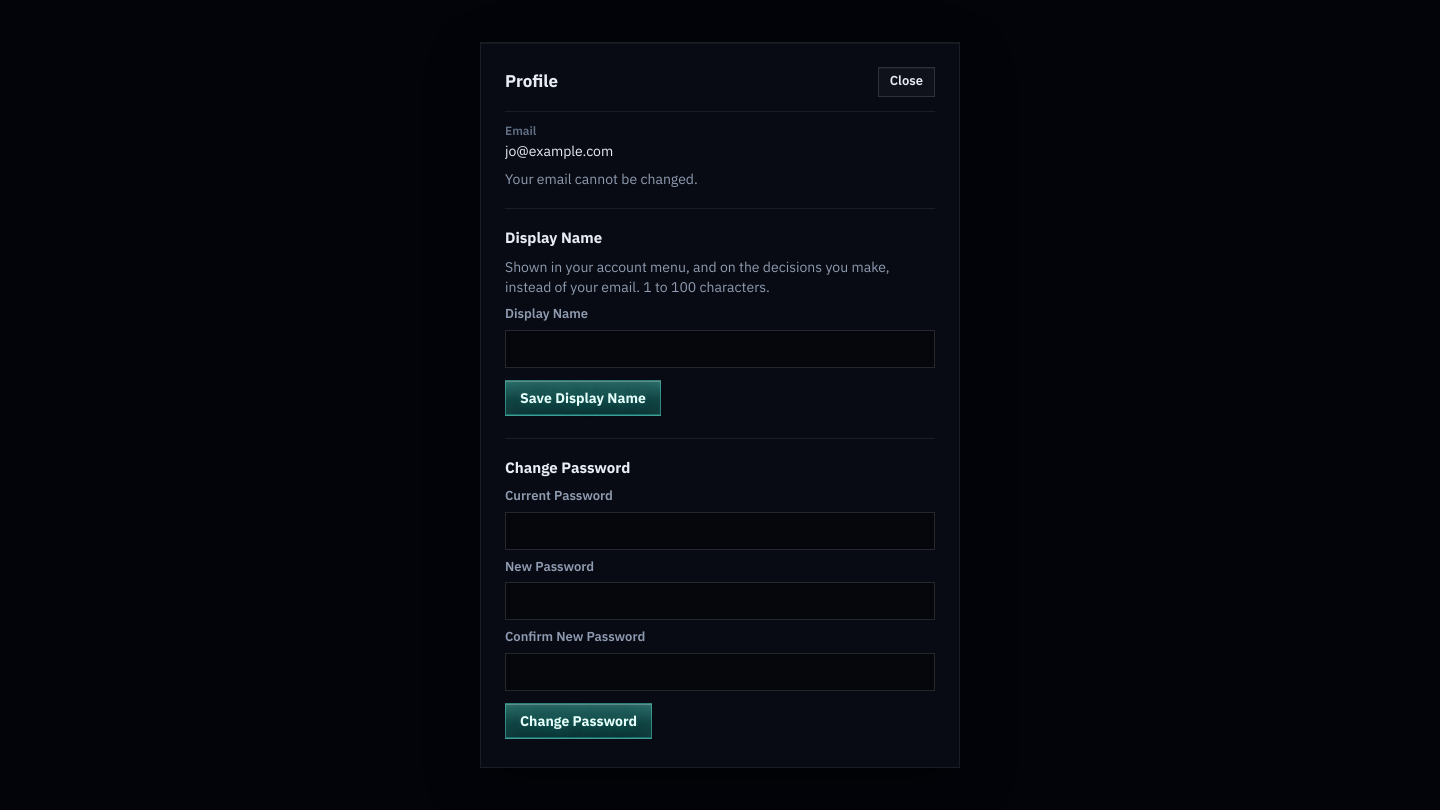
Profile window: the password › changes the password with the right current one, sends only the two passwords, and clears the fields
This screenshot has width=1440, height=810.
In the password field labelled "Current Password": (720, 530) top-left (505, 512), bottom-right (935, 550), type "old-password"
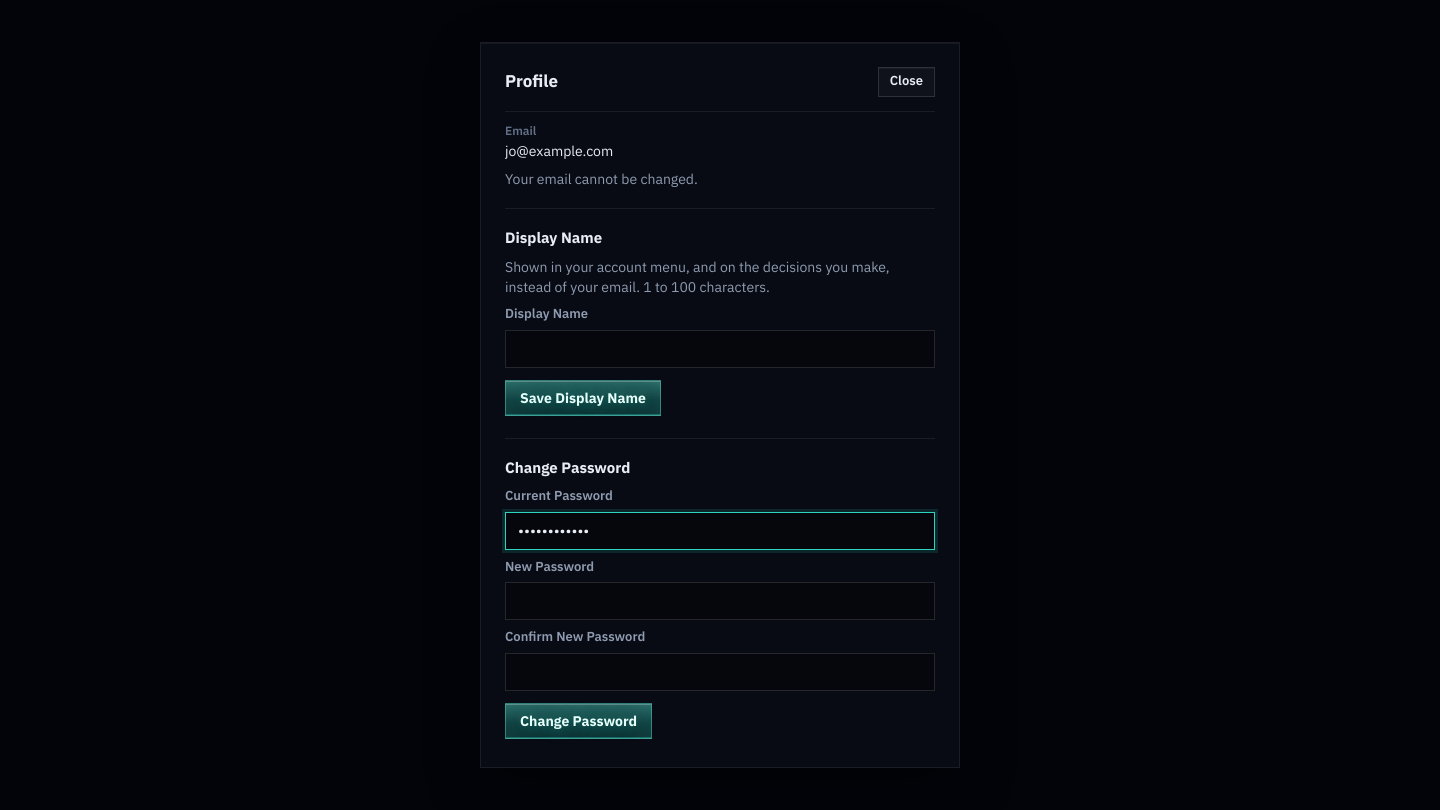
In the password field labelled "New Password": (720, 601) top-left (505, 582), bottom-right (935, 620), type "a-brand-new-password"
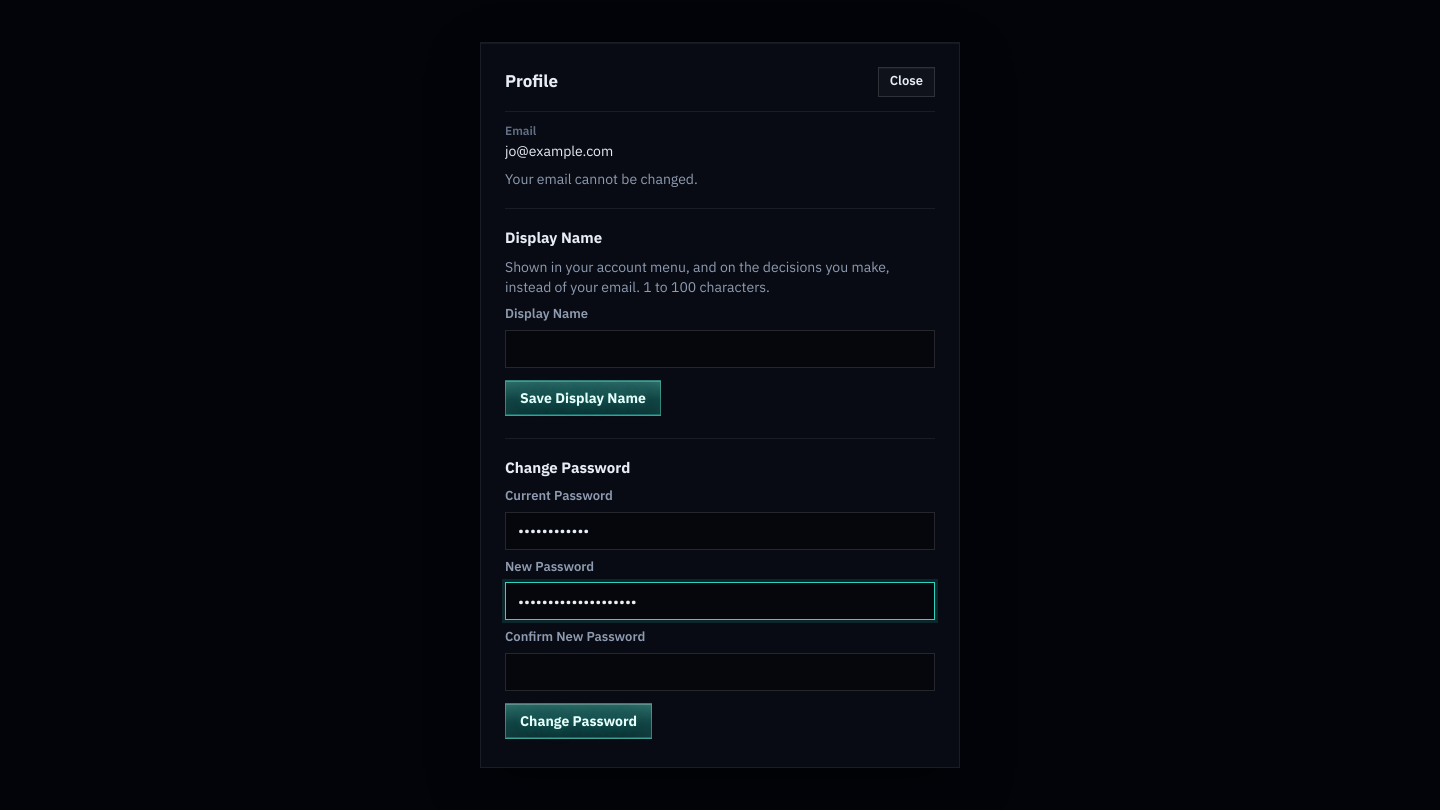
In the password field labelled "Confirm New Password": (720, 672) top-left (505, 653), bottom-right (935, 691), type "a-brand-new-password"
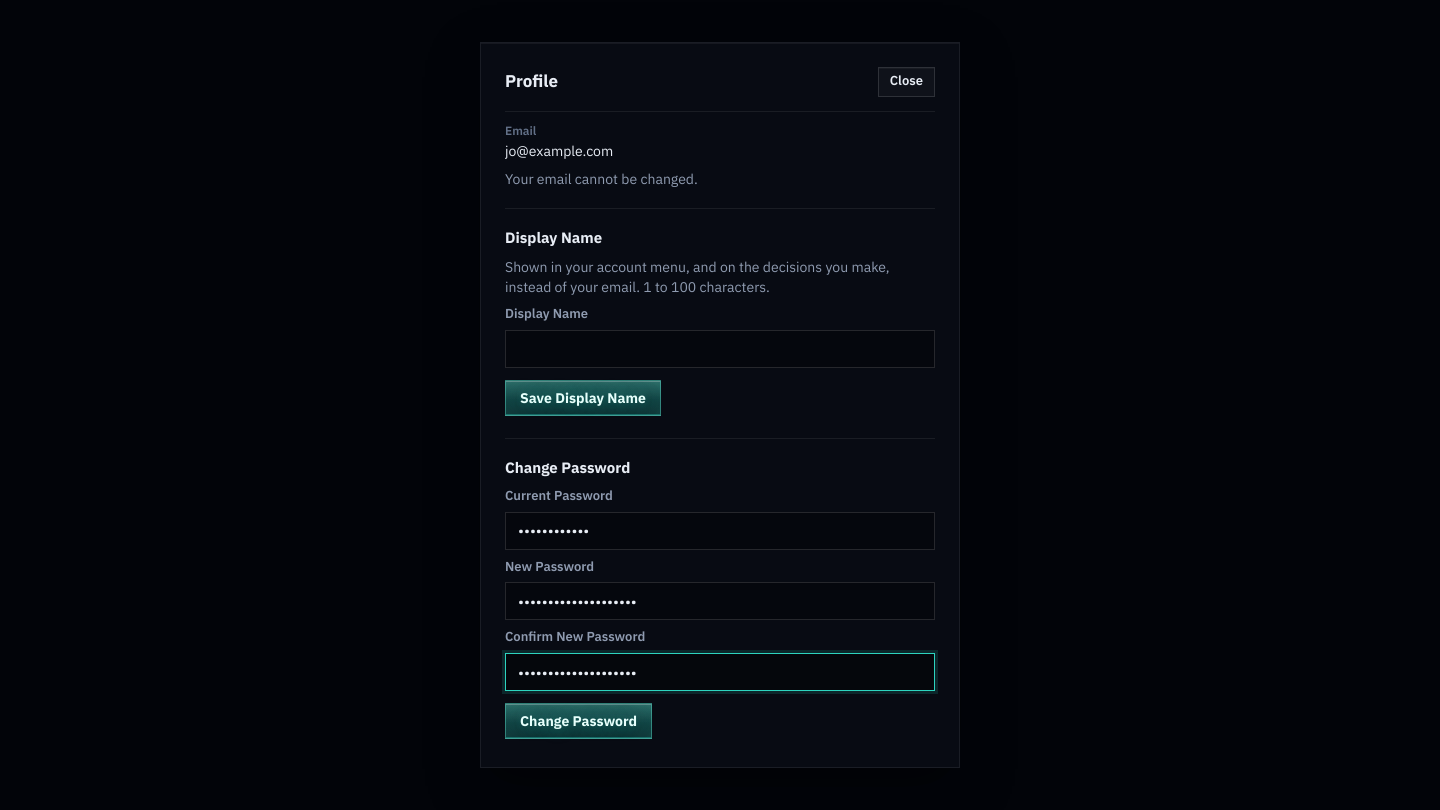
Click the button "Change Password": (578, 721) top-left (505, 703), bottom-right (652, 739)
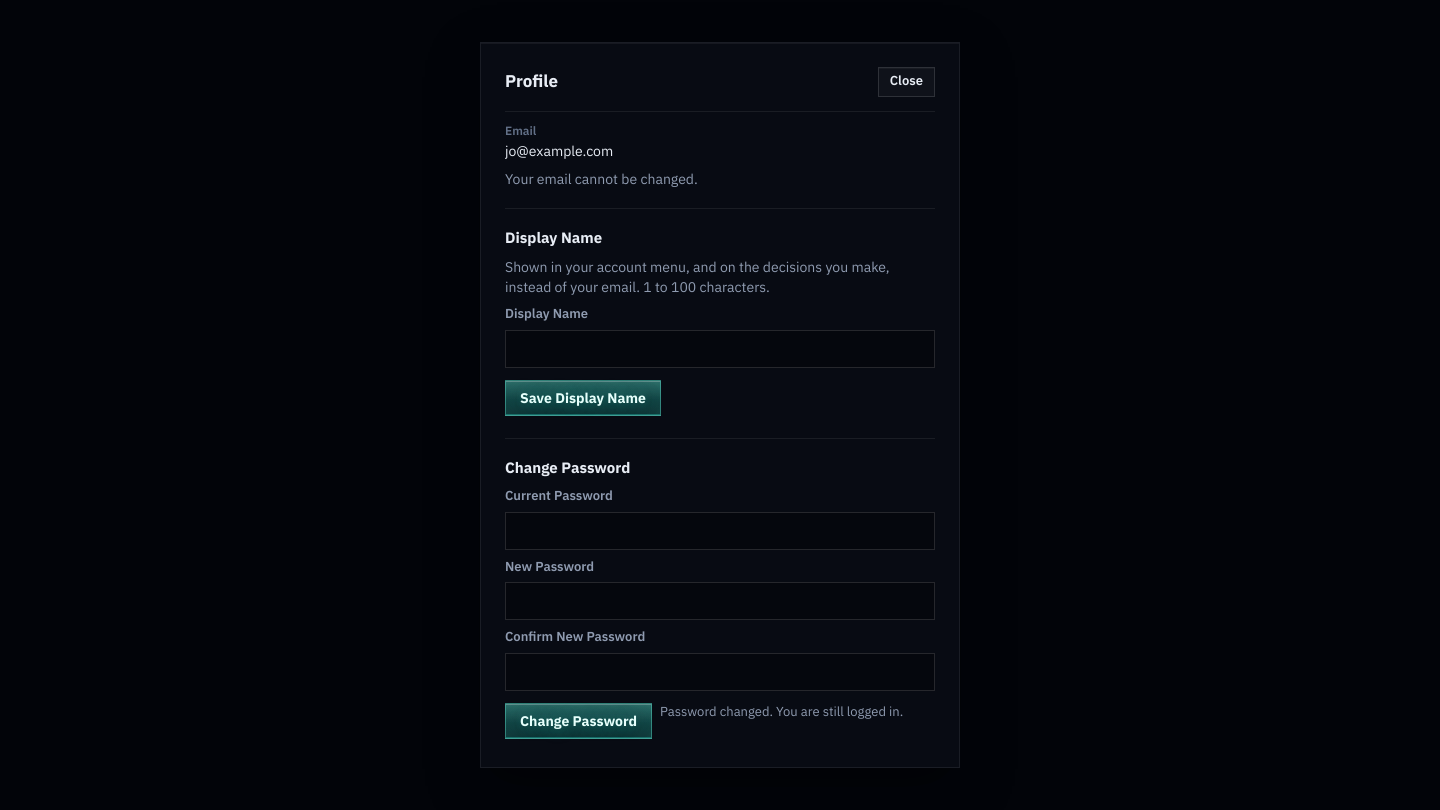
Expected: the text "Password changed. You are still logged in." is shown, top-left (660, 703), bottom-right (903, 720)
Expected: the password field labelled "Current Password" is empty, top-left (505, 512), bottom-right (935, 550)
Expected: the password field labelled "New Password" is empty, top-left (505, 582), bottom-right (935, 620)
